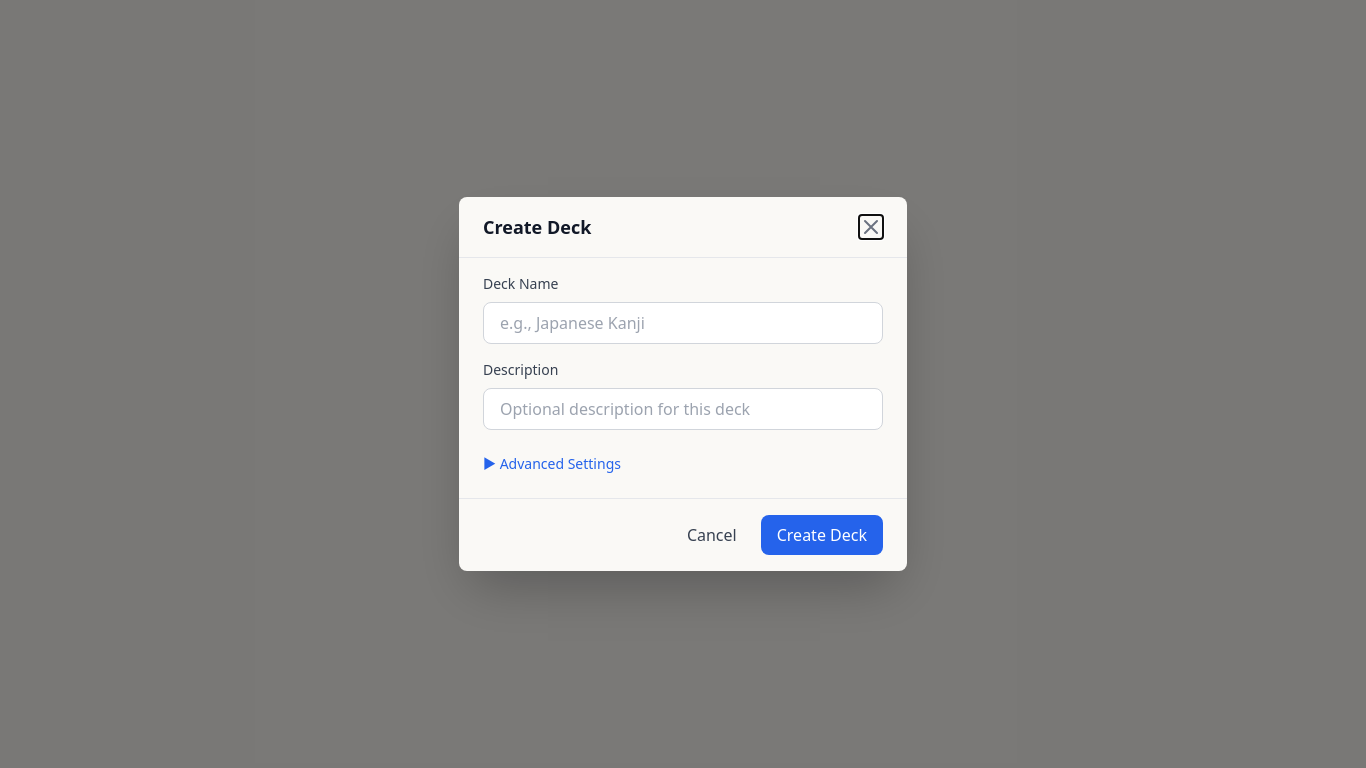
Test: CreateDeckModal › shows advanced settings when expanded
Click the button "▶ Advanced Settings" at (552, 464), box [483, 446, 621, 482]
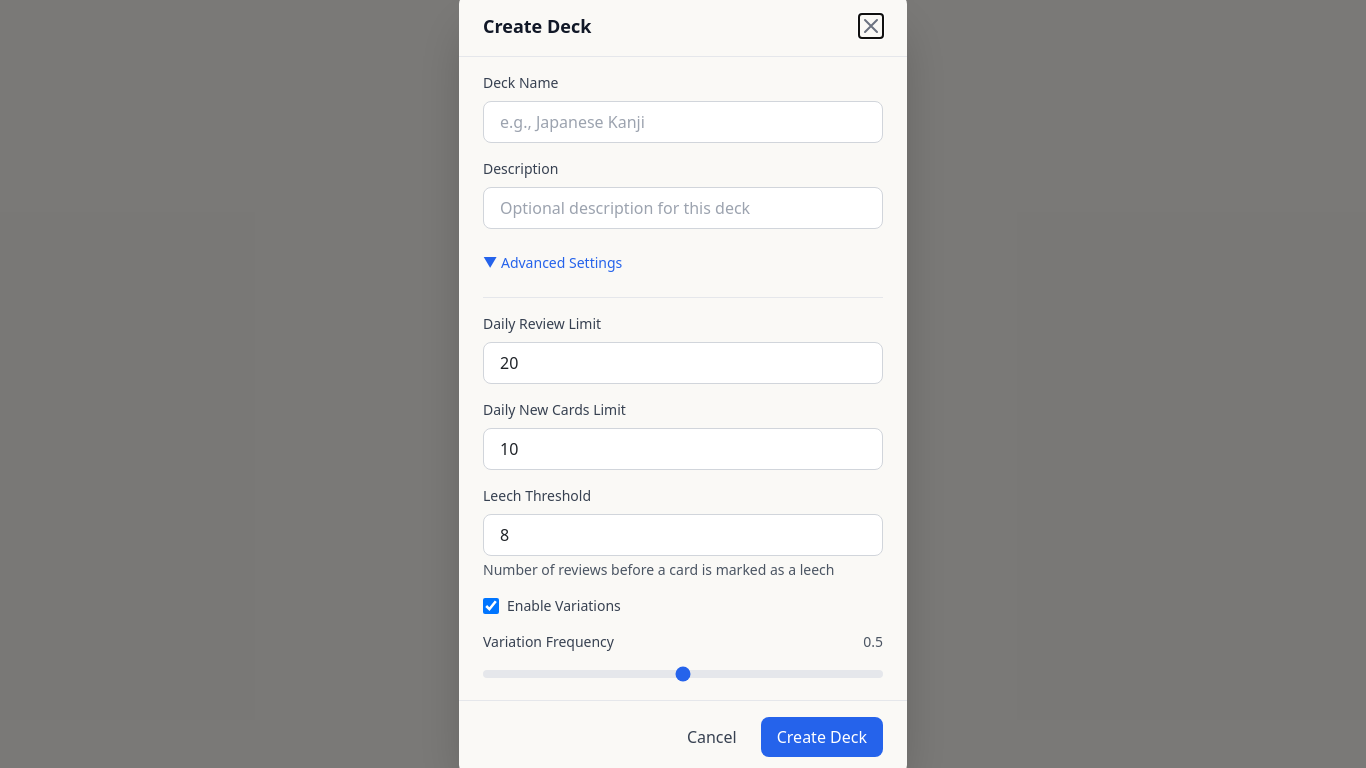
Expected: the number field labelled "Daily Review Limit" is shown, [483, 342, 883, 384]
Expected: the number field labelled "Daily New Cards Limit" is shown, [483, 428, 883, 470]
Expected: the number field labelled "Leech Threshold" is shown, [483, 514, 883, 556]
